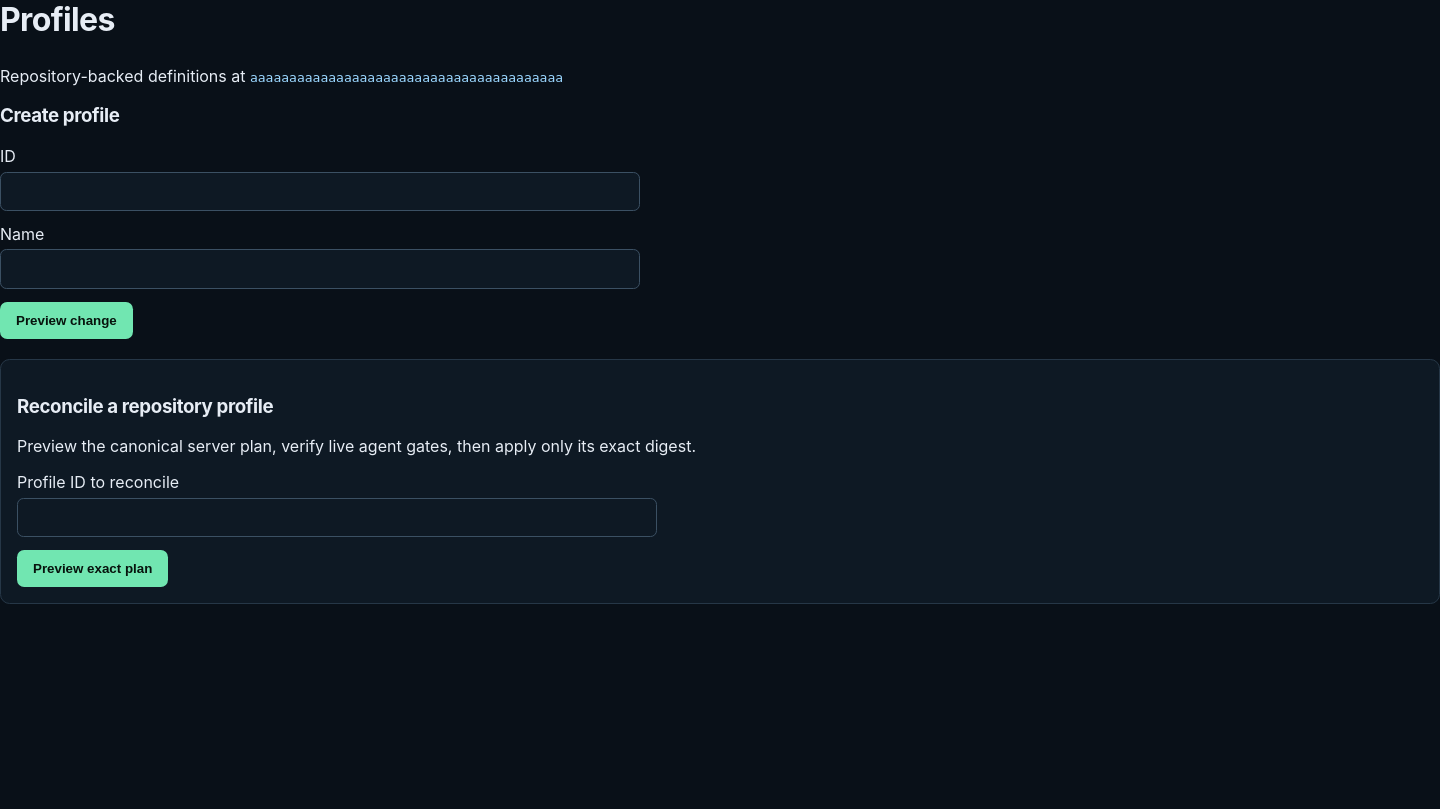
it: reports plan errors accessibly and does not retain a prior digest
Type "production-agents" into the field labelled "Profile ID to reconcile". click: (337, 518)
box: [17, 498, 657, 537]
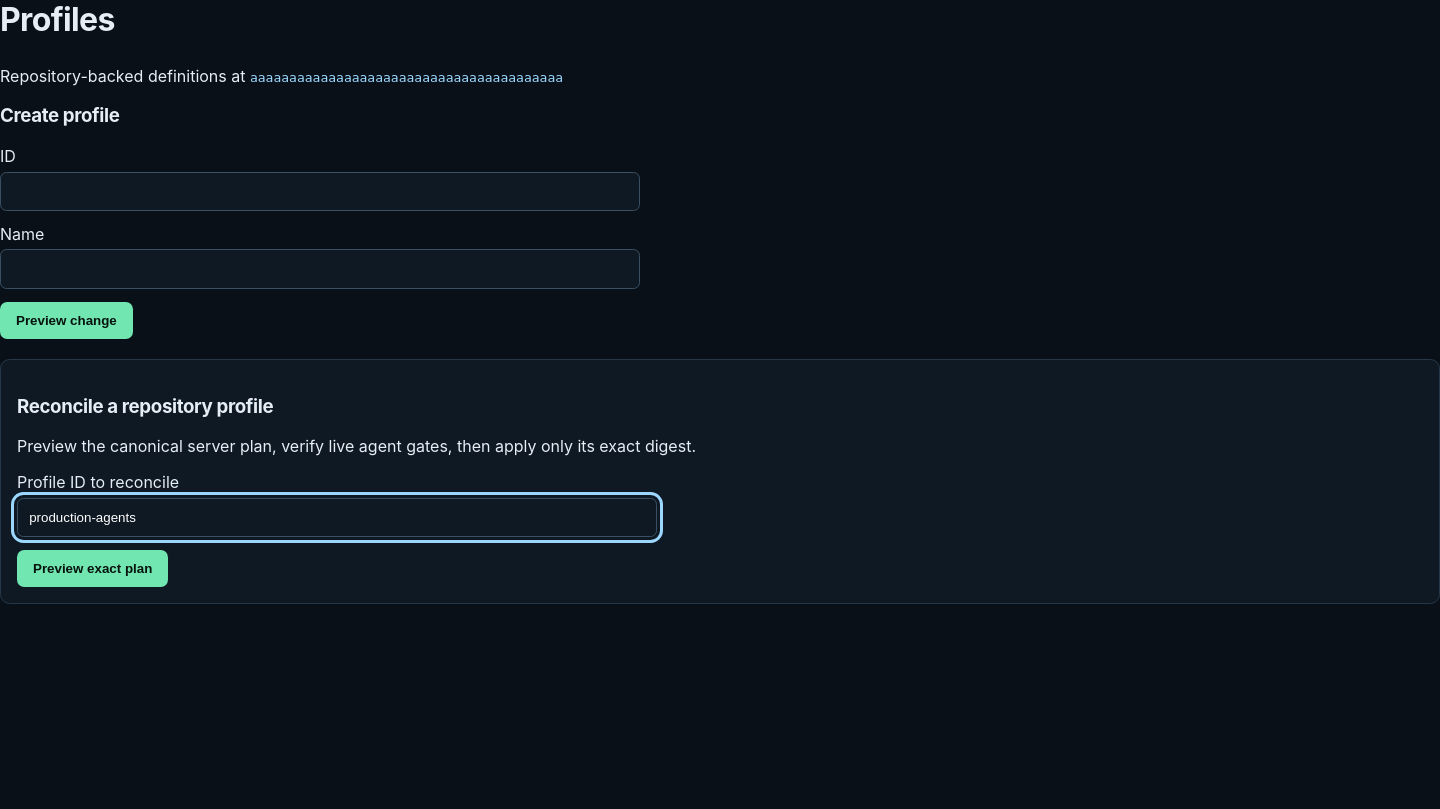
Click the button "Preview exact plan". click: (93, 569)
box: [17, 550, 168, 588]
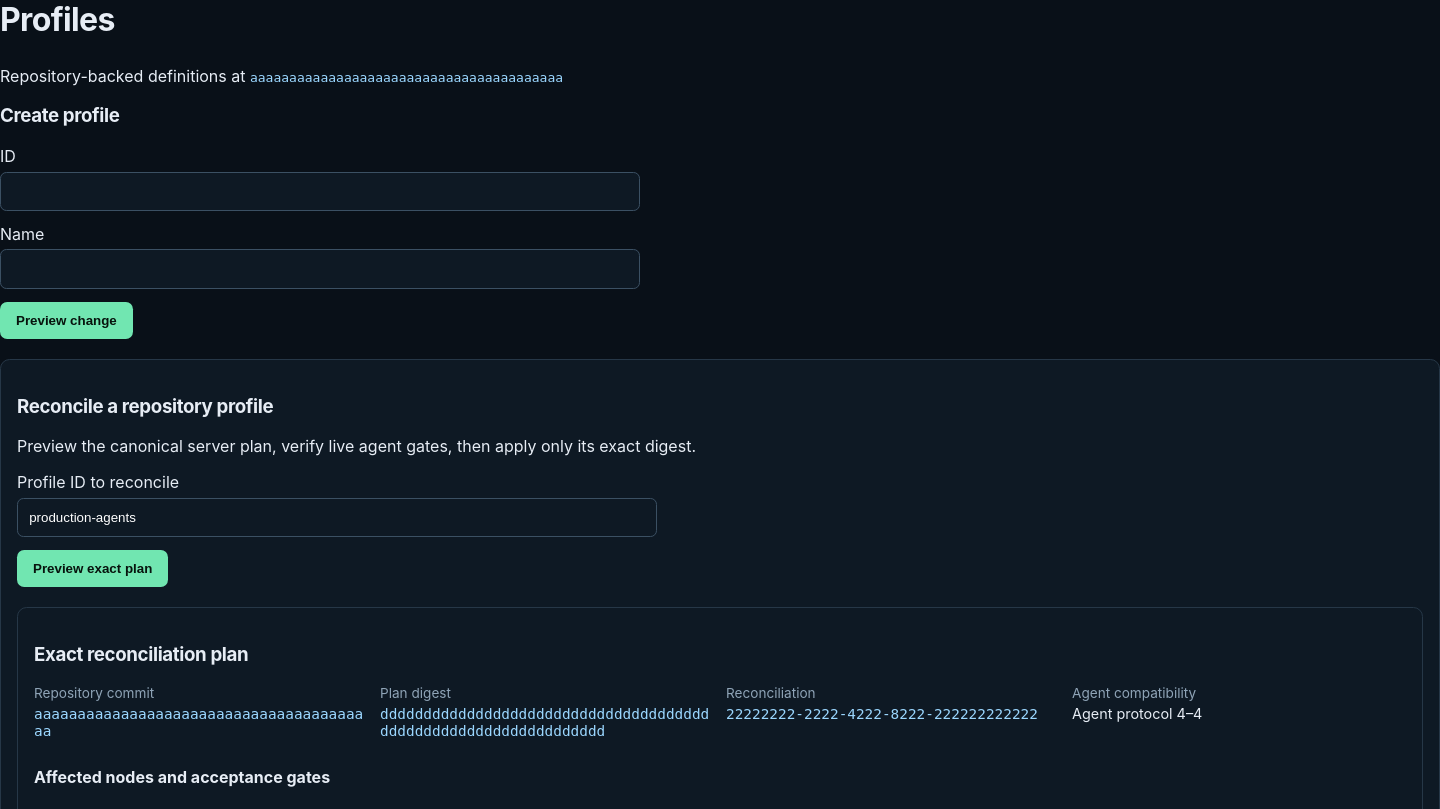
Expected: the text "dddddddddddddddddddddddddddddddddddddddddddddddddddddddddddddddd" is shown, [380, 706, 709, 739]
Click the button "Preview exact plan". click: (93, 569)
box: [17, 550, 168, 588]
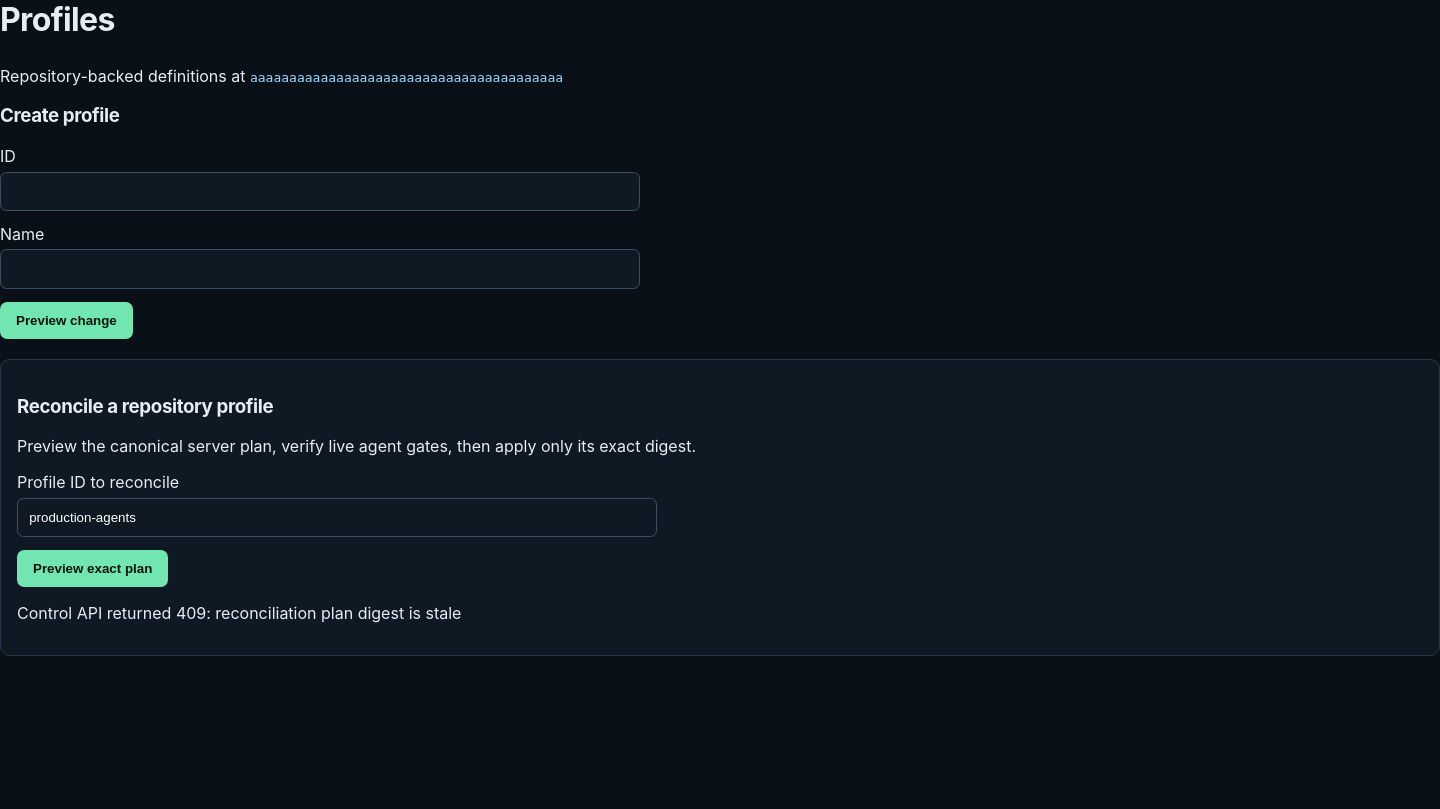
Expected: the message shows "409", [17, 604, 461, 624]
Expected: the text "dddddddddddddddddddddddddddddddddddddddddddddddddddddddddddddddd" is gone
